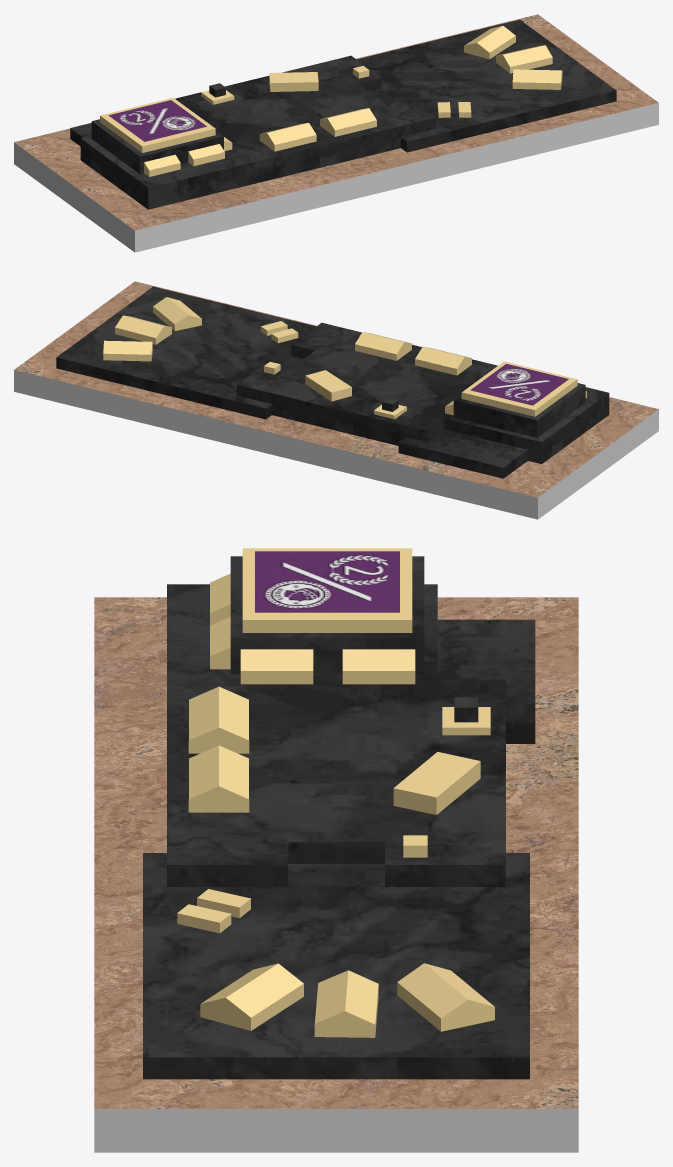
Rendered from buildingMercado.glb.
3 renders of one model, top to bottom at view 1: azimuth 30°, elevation 25°; view 2: azimuth 150°, elevation 25°; view 3: azimuth 270°, elevation 25°, orthographic. The views are drawn at different scales.
Parts seen in each view (by area): view 1: Mercado; view 2: Mercado; view 3: Mercado.
Boxes of the visible parts, <box> form: Mercado: <box>14,14,658,252</box>; Mercado: <box>14,281,658,519</box>; Mercado: <box>94,548,578,1152</box>.
Bounding box in the file's own units: 5 × 0.6313 × 2.
5 materials, 3 textured.
